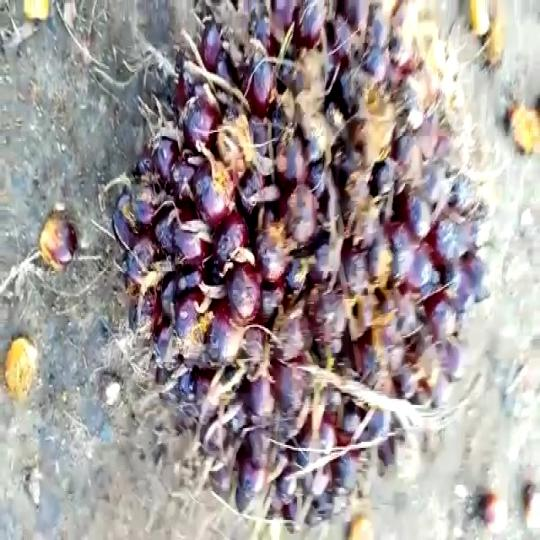kurang masak: (108, 0, 490, 539)
